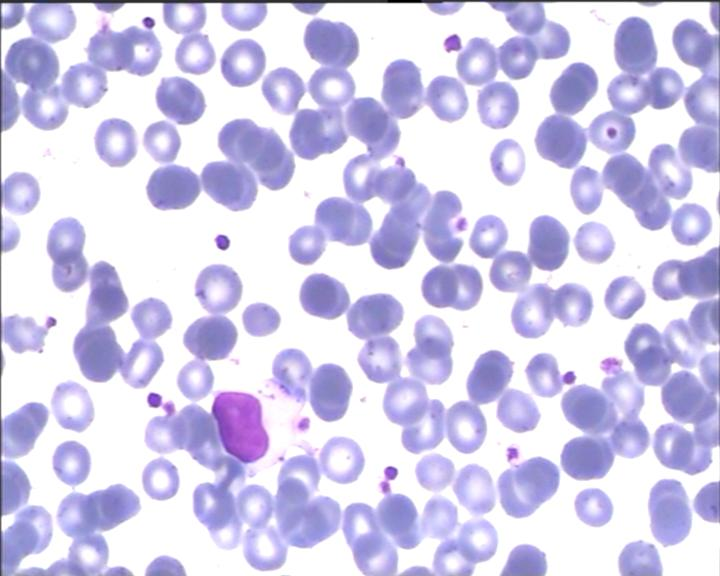mono: (203, 370, 309, 467)
